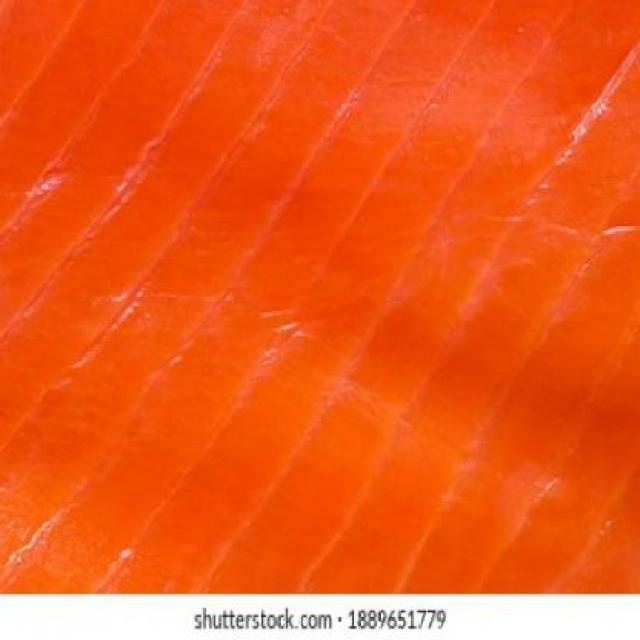salmon: (5, 5, 633, 588)
